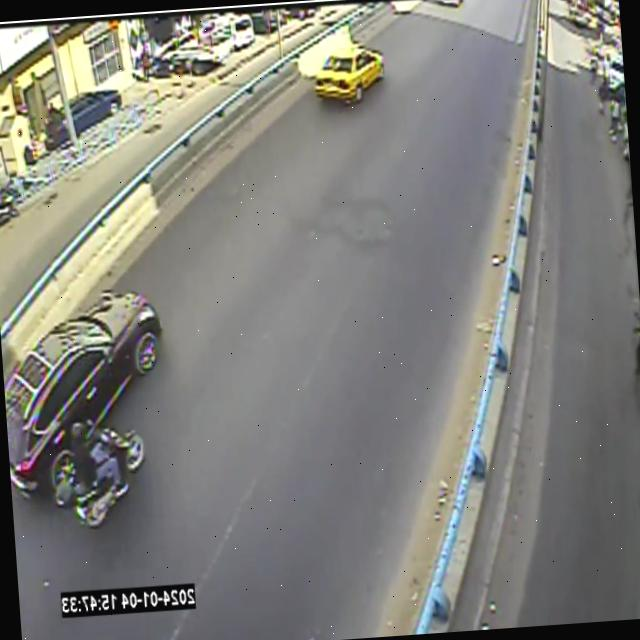car: (5, 291, 161, 495), (35, 290, 162, 468)
